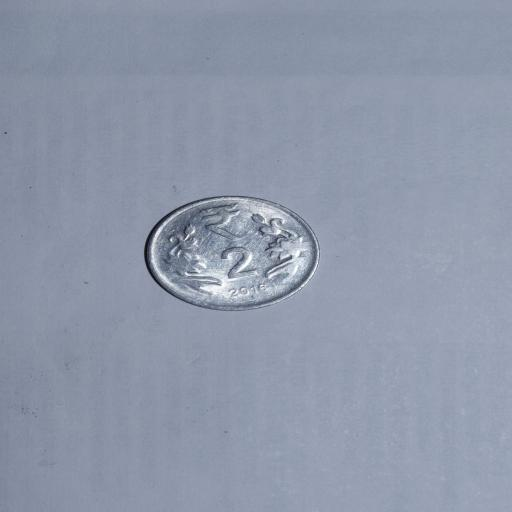rupee2: (139, 194, 324, 314)
